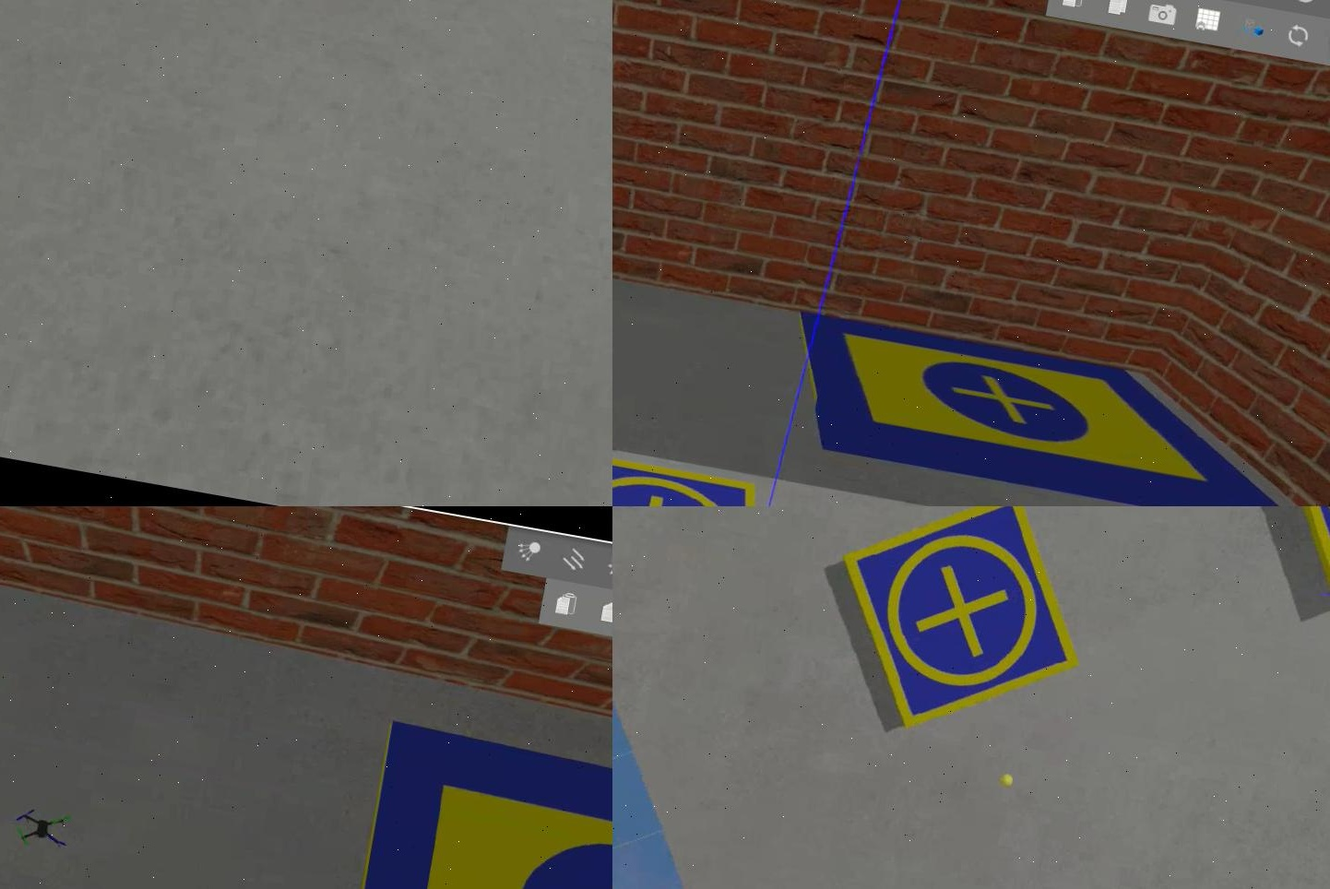large_base: (772, 308, 1322, 506), (331, 719, 611, 889)
small_base: (816, 506, 1105, 757), (1260, 506, 1328, 631)
